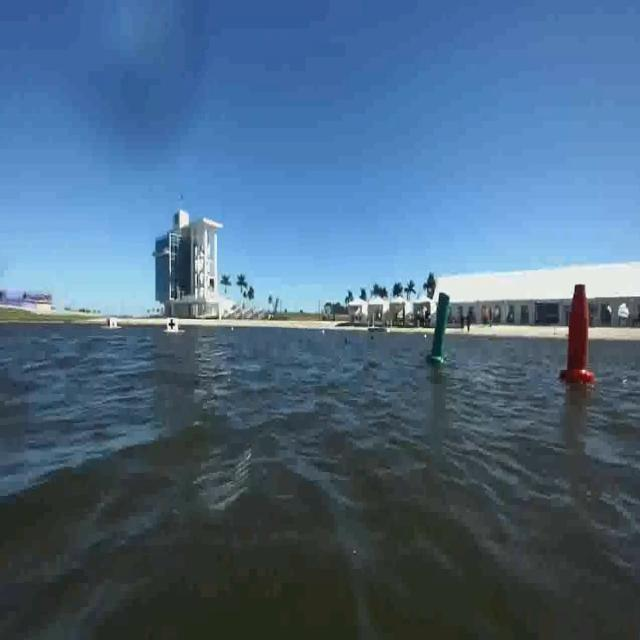green-column-buoy: (426, 290, 452, 365)
red-column-buoy: (559, 283, 596, 386)
